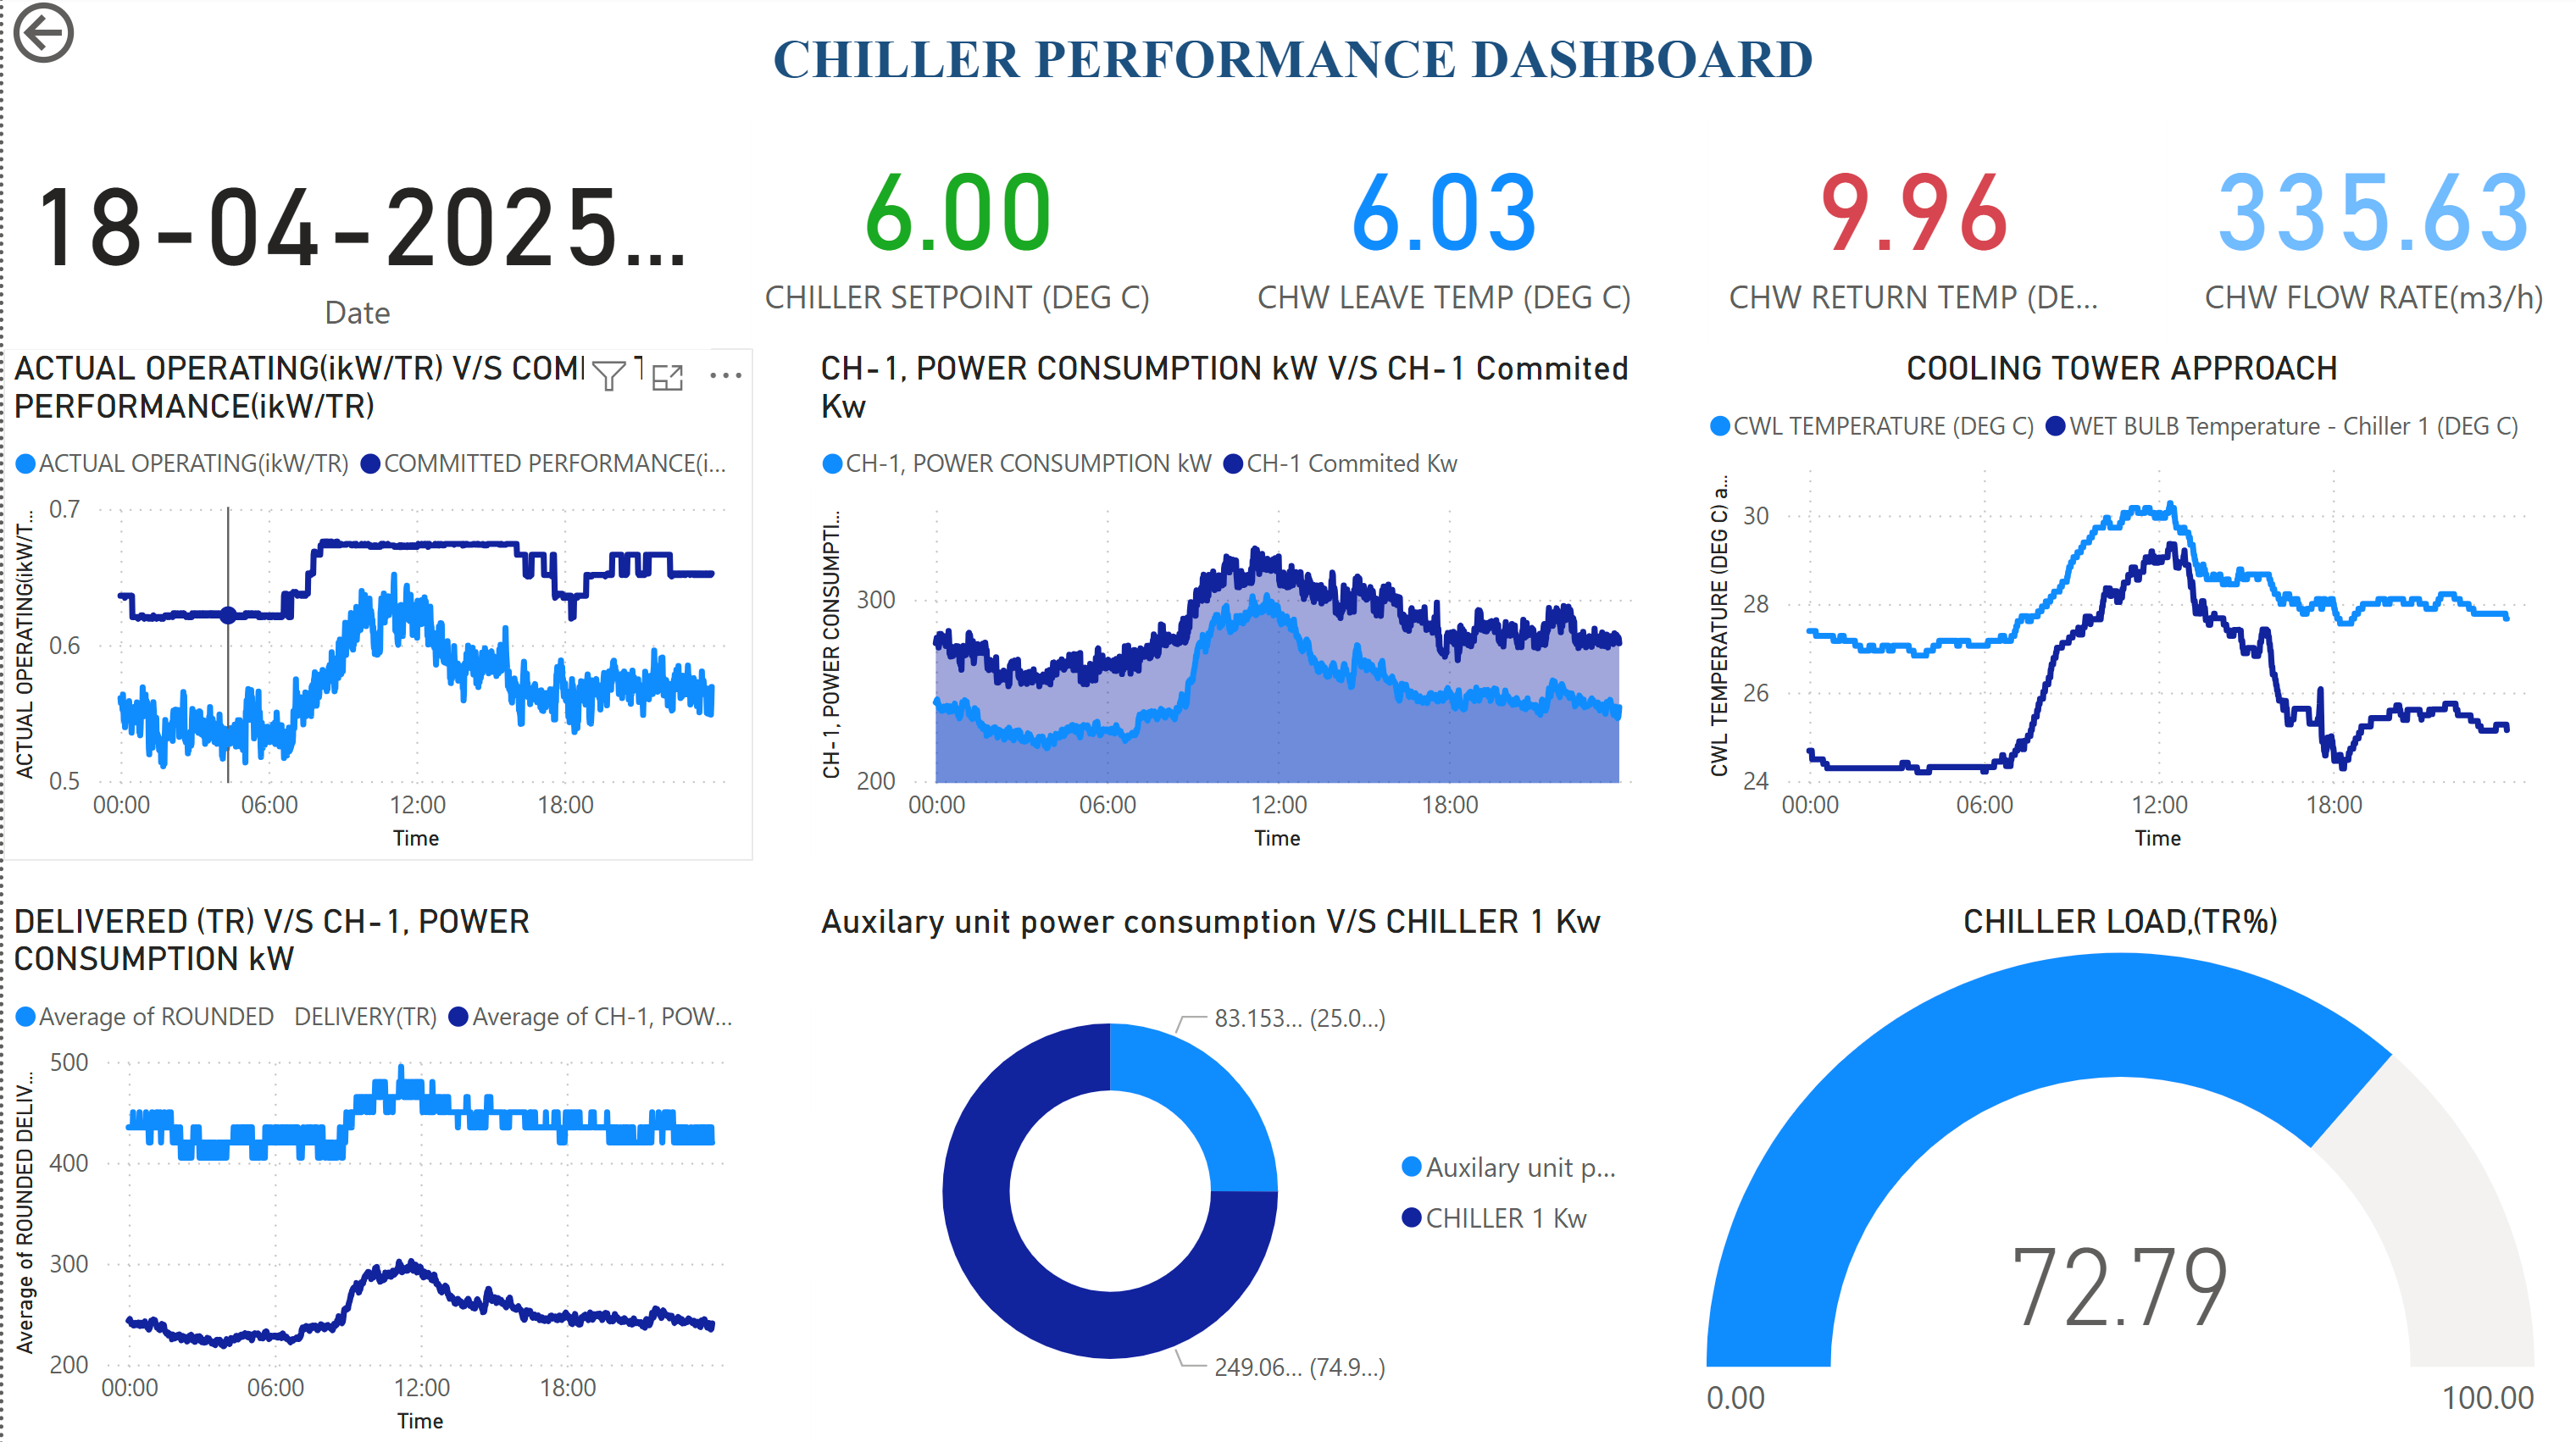

Layout of this report page (visuals, bound fields, positions):
{"tool":"powerbi","page":{"name":"Page 1","canvas":[1280,720],"ordinal":0},"visuals":[{"type":"lineChart","title":"ACTUAL OPERATING(ikW/TR) V/S COMMITTED PERFORMANCE(ikW/TR)","fields":{"Category":["WATER COOLED CHILLER. Time"],"Y":["Avg(WATER COOLED CHILLER.ACTUAL OPERATING(ikW/TR))","Avg(WATER COOLED CHILLER.COMMITTED PERFORMANCE(ikW/TR))"]},"box":[0,177,371.9,253.9],"z":0},{"type":"lineChart","title":"DELIVERED (TR) V/S CH-1, POWER CONSUMPTION kW","fields":{"Category":["WATER COOLED CHILLER. Time"],"Y":["Avg(WATER COOLED CHILLER.ROUNDED   DELIVERY(TR))","Avg(WATER COOLED CHILLER.CH-1, POWER CONSUMPTION )"]},"box":[0,451.5,371.9,269],"z":1000},{"type":"areaChart","title":"CH-1, POWER CONSUMPTION kW V/S CH-1 Commited Kw ","fields":{"Category":["WATER COOLED CHILLER. Time"],"Y":["Avg(WATER COOLED CHILLER.CH-1, POWER CONSUMPTION )","Avg(WATER COOLED CHILLER.Commited Kw )"]},"box":[400.7,177,421.3,253.9],"z":2000},{"type":"lineChart","title":"COOLING TOWER APPROACH","fields":{"Category":["WATER COOLED CHILLER. Time"],"Y":["Avg(WATER COOLED CHILLER.CEFT TEMPERATURE(DEG C))","Avg(WATER COOLED CHILLER.WET BULB Temperature - Chiller 1(DEG C))"]},"box":[841.2,177,421.3,253.9],"z":3000},{"type":"donutChart","title":"Auxilary unit power consumption  V/S CHILLER 1 Kw ","fields":{"Y":["Avg(CHILLER PLANT ENERGY.Auxilary unit power consumption )","Avg(CHILLER PLANT ENERGY.CHILLER 1 Kw )"]},"box":[400.7,451.5,421.3,269],"z":4000},{"type":"gauge","fields":{"Y":["Avg(CHILLER PLANT ENERGY.CHILLER LOAD,(TR%) )"]},"box":[839.8,451.5,421.3,269],"z":5000},{"type":"card","fields":{"Values":["Avg(WATER COOLED CHILLER.CHILLER TEMPERATURE LEAVING SETPOINT(DEG C))"]},"box":[371.7,48.3,205,128.3],"z":6000},{"type":"card","fields":{"Values":["Avg(WATER COOLED CHILLER.CHW RETURN TEMPERATURE(DEG C))"]},"box":[846.7,48.3,203.3,128.3],"z":7000},{"type":"card","fields":{"Values":["Avg(WATER COOLED CHILLER.CHW LEAVE TEMPERATURE(DEG C))"]},"box":[611.7,48.3,206.7,128.3],"z":8000},{"type":"card","fields":{"Values":["Avg(WATER COOLED CHILLER.CHW FLOW RATE(m3/h))"]},"box":[1073.3,48.3,206.7,128.3],"z":9000},{"type":"card","fields":{"Values":["Min(WATER COOLED CHILLER. Date)"]},"box":[0,61.7,351.3,115.3],"z":10000},{"type":"actionButton","box":[0,0,100,40],"z":11000},{"type":"textbox","box":[73.3,0,1133.3,61.7],"z":12000}]}

Visuals, with their boxes in screenshot pixels (x1, y1, x2, y2), scaled from the page's 1280x720 canvas onto the 2576x1442 screenshot:
"ACTUAL OPERATING(ikW/TR) V/S COMMITTED PERFORMANCE(ikW/TR)" lineChart: BBox(0, 354, 748, 863)
"DELIVERED (TR) V/S CH-1, POWER CONSUMPTION kW" lineChart: BBox(0, 904, 748, 1441)
"CH-1, POWER CONSUMPTION kW V/S CH-1 Commited Kw " areaChart: BBox(807, 354, 1654, 863)
"COOLING TOWER APPROACH" lineChart: BBox(1693, 354, 2540, 863)
"Auxilary unit power consumption  V/S CHILLER 1 Kw " donutChart: BBox(807, 904, 1654, 1441)
gauge - Avg(CHILLER PLANT ENERGY.CHILLER LOAD,(TR%) ): BBox(1690, 904, 2538, 1441)
card - Avg(WATER COOLED CHILLER.CHILLER TEMPERATURE LEAVING SETPOINT(DEG C)): BBox(748, 97, 1161, 353)
card - Avg(WATER COOLED CHILLER.CHW RETURN TEMPERATURE(DEG C)): BBox(1704, 97, 2113, 353)
card - Avg(WATER COOLED CHILLER.CHW LEAVE TEMPERATURE(DEG C)): BBox(1231, 97, 1647, 353)
card - Avg(WATER COOLED CHILLER.CHW FLOW RATE(m3/h)): BBox(2160, 97, 2575, 353)
card - Min(WATER COOLED CHILLER. Date): BBox(0, 124, 707, 354)
actionButton: BBox(0, 0, 202, 80)
textbox: BBox(147, 0, 2429, 124)
